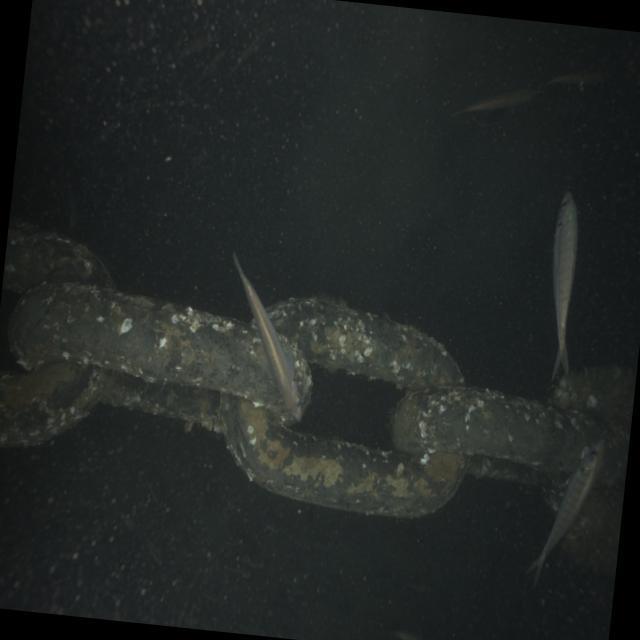ChainLink: (8, 282, 291, 425), (221, 394, 468, 516), (393, 387, 603, 471), (267, 298, 463, 388), (0, 361, 106, 447), (2, 218, 114, 292), (101, 371, 222, 431), (549, 365, 636, 434), (562, 479, 624, 574), (467, 454, 539, 482)
